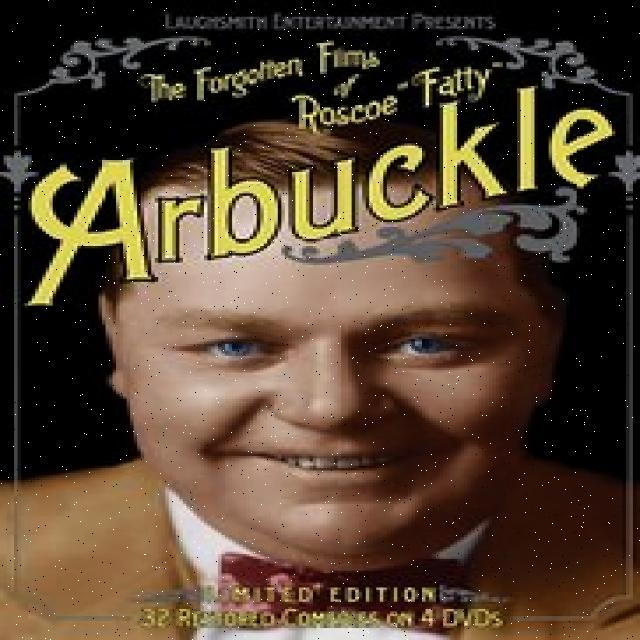movie-judul: (1, 45, 629, 318)
picture: (2, 0, 636, 640)
